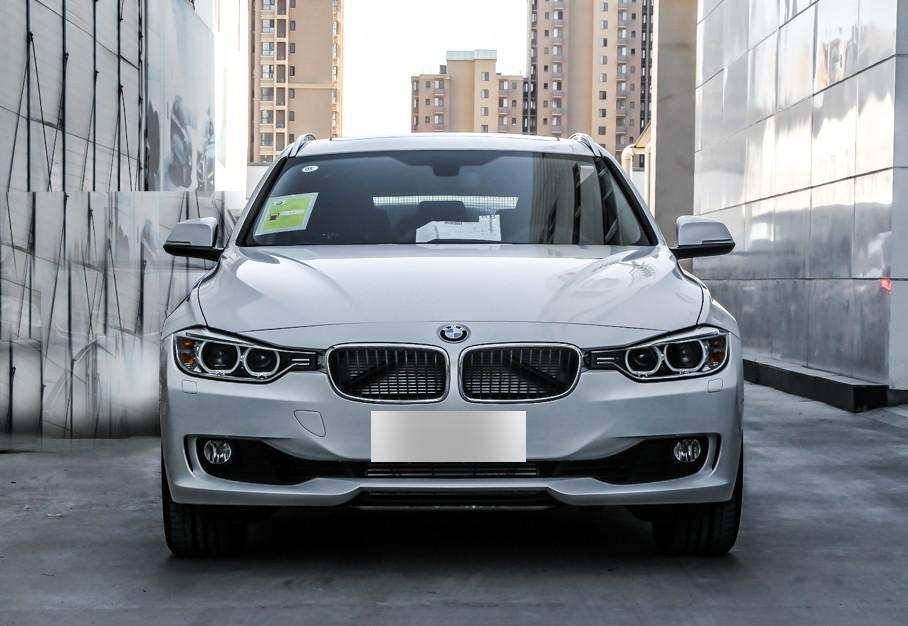Wagon: (159, 132, 744, 557)
